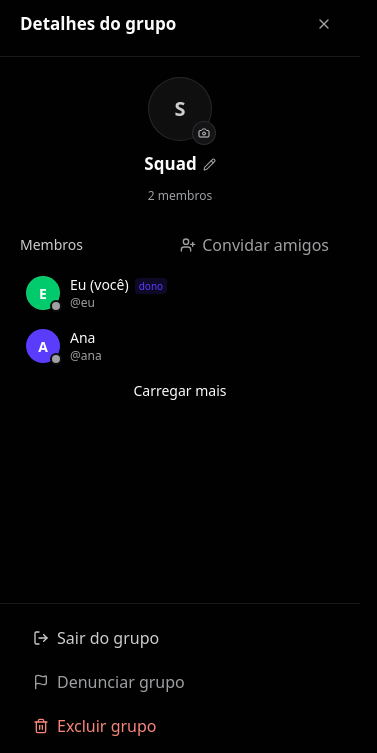
Test: GroupDetailsPanel — invitations › the member list is paginated from the server, with the owner marked
The width and height of the screenshot is (377, 753).
Expected: the text "dono" is shown, top-left (135, 278), bottom-right (167, 294)
Expected: the text "2 membros" is shown, top-left (148, 188), bottom-right (212, 205)
Click the button "Carregar mais": point(180, 391) top-left (122, 375), bottom-right (238, 407)
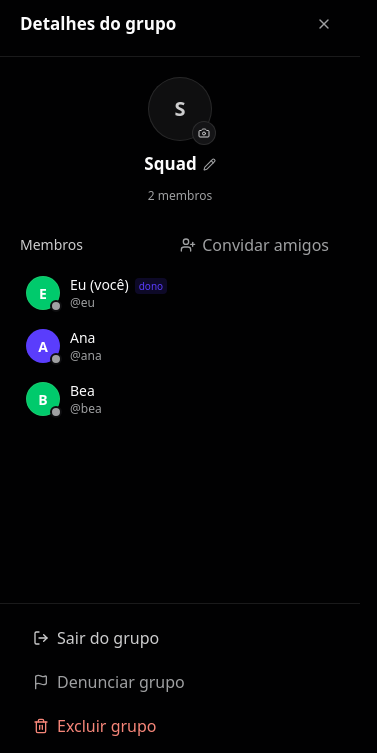
Now the text "Bea" is shown, box top-left (70, 381), bottom-right (95, 400)
Now the button "Carregar mais" is gone
